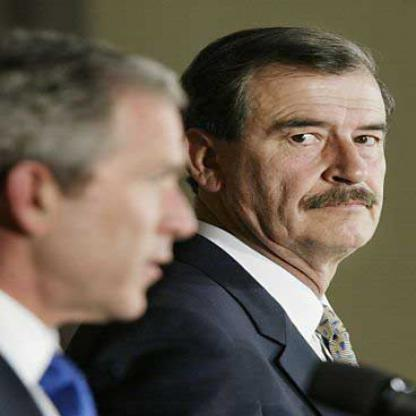face: (216, 31, 416, 262), (47, 51, 206, 325)
